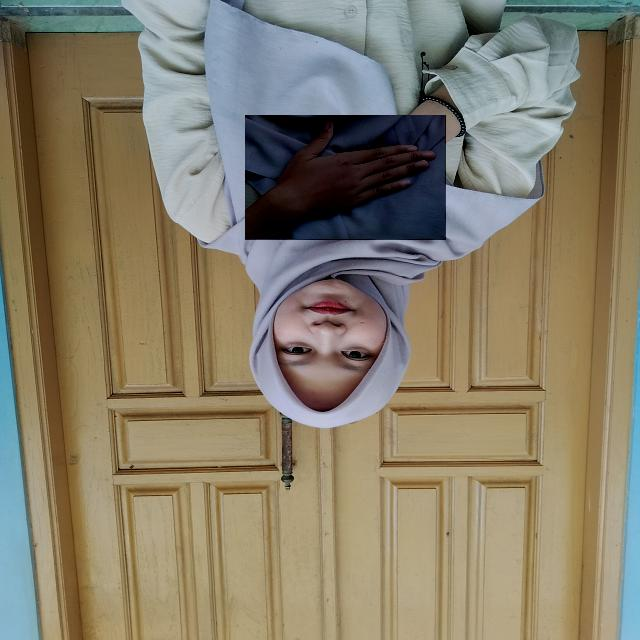tolong: (245, 115, 446, 240)
